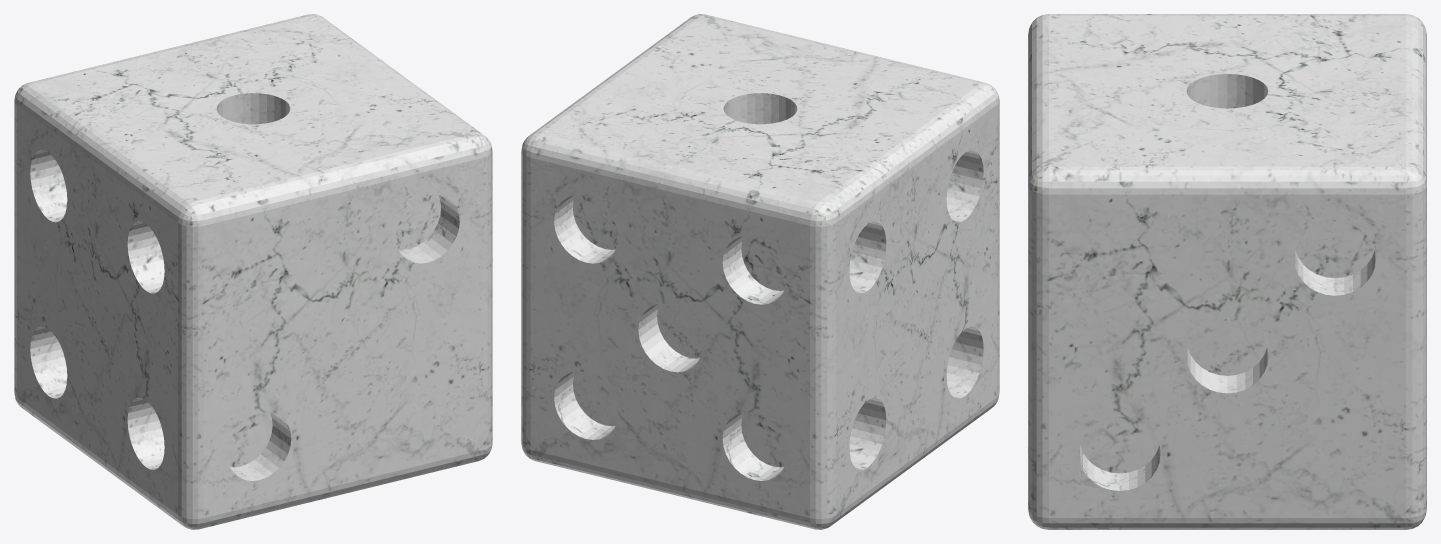
File: dice.glb
3 views of the same model, side by side, from view 1: azimuth 30°, elevation 25°; view 2: azimuth 150°, elevation 25°; view 3: azimuth 270°, elevation 25° (orthographic). The views are drawn at different scales.
Parts seen in each view (by area): view 1: Marble Dice; view 2: Marble Dice; view 3: Marble Dice.
Boxes of the visible parts, left/top/right/bottom form: Marble Dice: left=14, top=14, right=492, bottom=529; Marble Dice: left=521, top=14, right=999, bottom=529; Marble Dice: left=1028, top=14, right=1426, bottom=529.
Bounding box in the file's own units: 0.076 × 0.076 × 0.076.
Materials: 1 (1 with a texture image).
